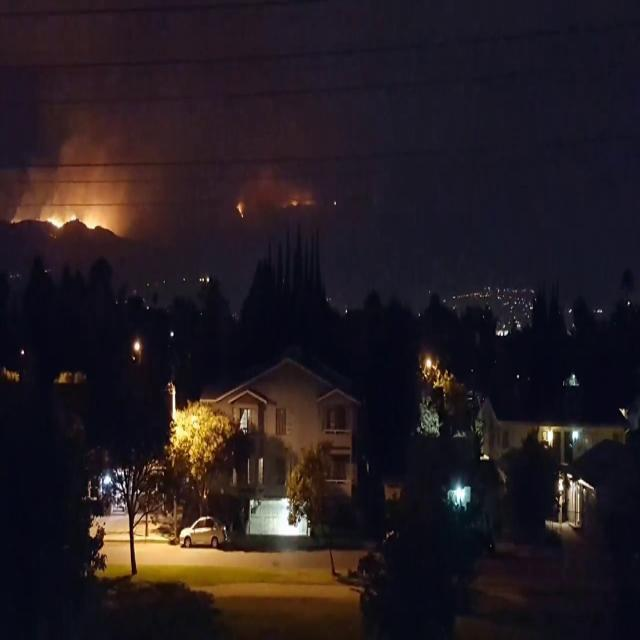Fire: (46, 212, 114, 235), (236, 201, 244, 217), (290, 200, 298, 208)
Smoke: (2, 2, 168, 232), (228, 163, 319, 220)
